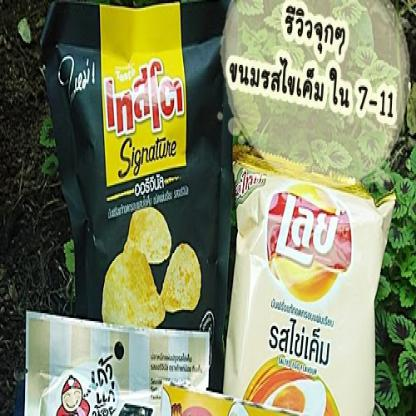potatochip: (38, 0, 238, 415), (222, 144, 396, 414)
